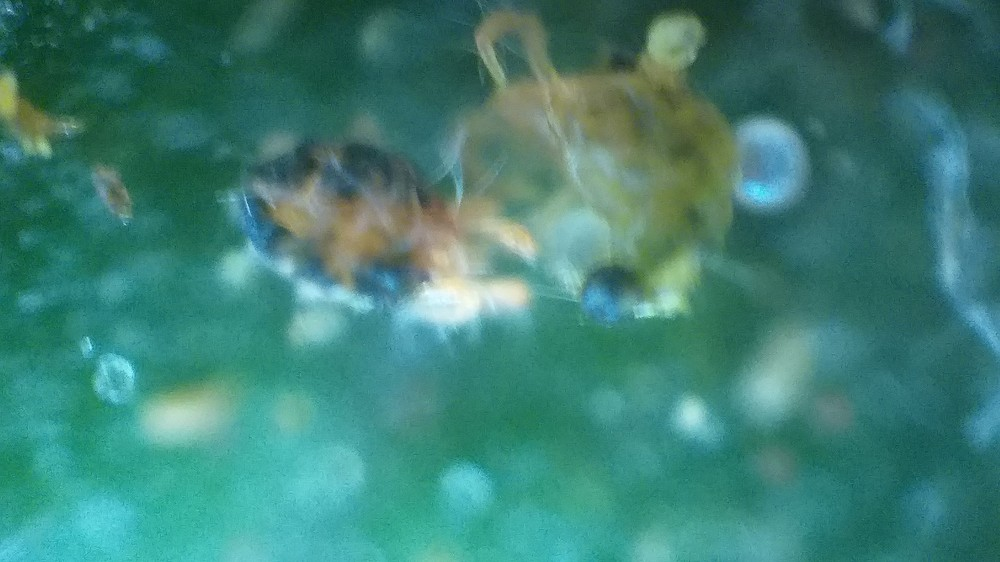Aracnido Rojo: (476, 13, 757, 333), (206, 119, 550, 354)
